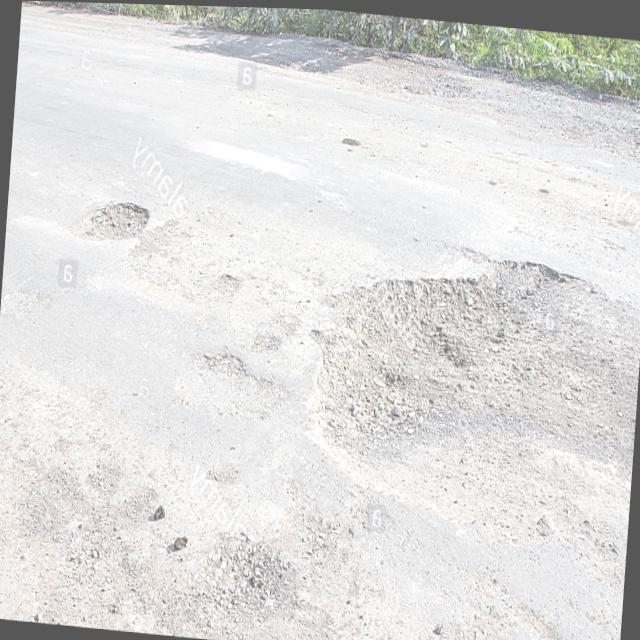Pothole: (309, 249, 640, 475), (79, 202, 150, 240)
